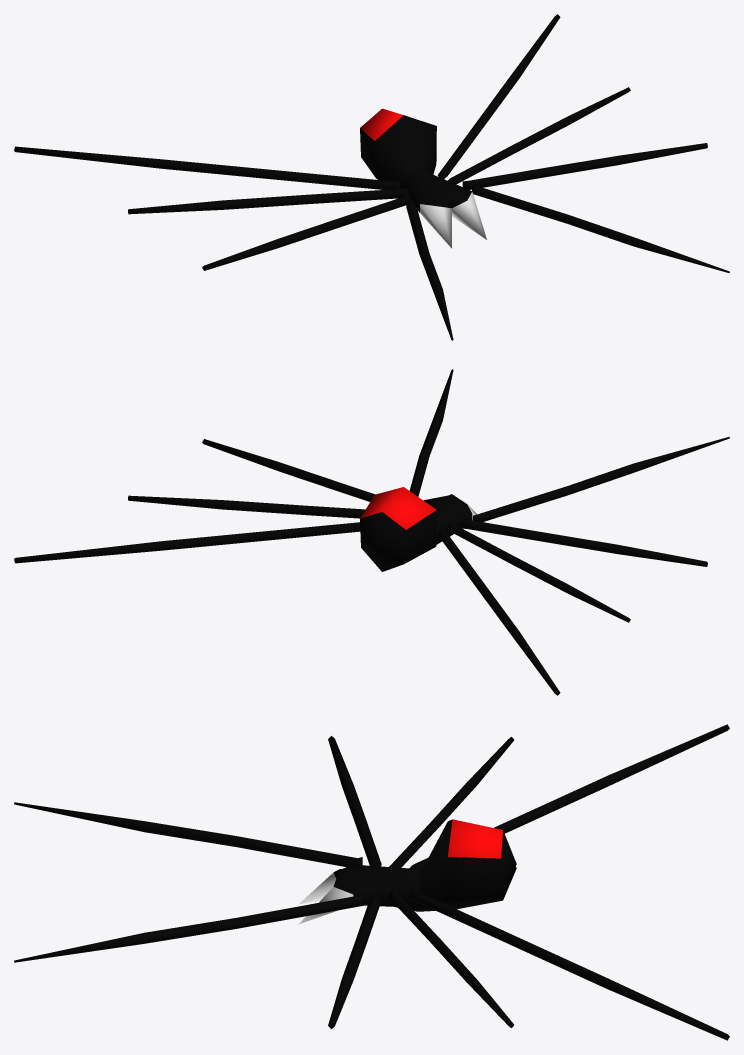
The model's file is spider.gltf.
The picture shows the model from 3 angles, top to bottom: view 1: azimuth 30°, elevation 25°; view 2: azimuth 150°, elevation 25°; view 3: azimuth 270°, elevation 25°; orthographic projection. The views are drawn at different scales.
Parts seen in each view (by area): view 1: spider.001; view 2: spider.001; view 3: spider.001.
Part boxes in pixels (box(x1,y1,x2,y2)): spider.001: box(14, 14, 729, 340); spider.001: box(14, 369, 729, 695); spider.001: box(14, 724, 729, 1040).
Bounding box in the file's own units: 0.7914 × 0.1125 × 0.767.
